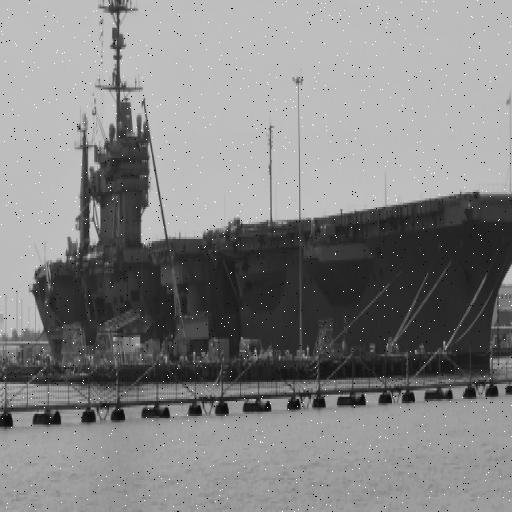Portanaves: (27, 1, 512, 385)
